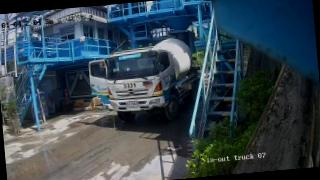cement_mixer_truck: (89, 38, 202, 120)
